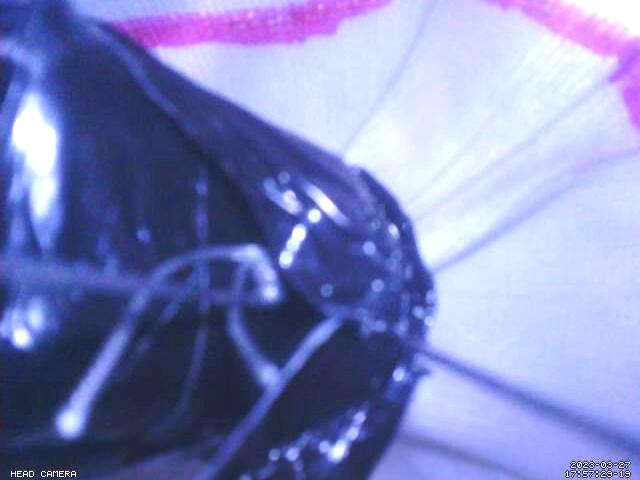red-circle: (106, 0, 640, 131)
